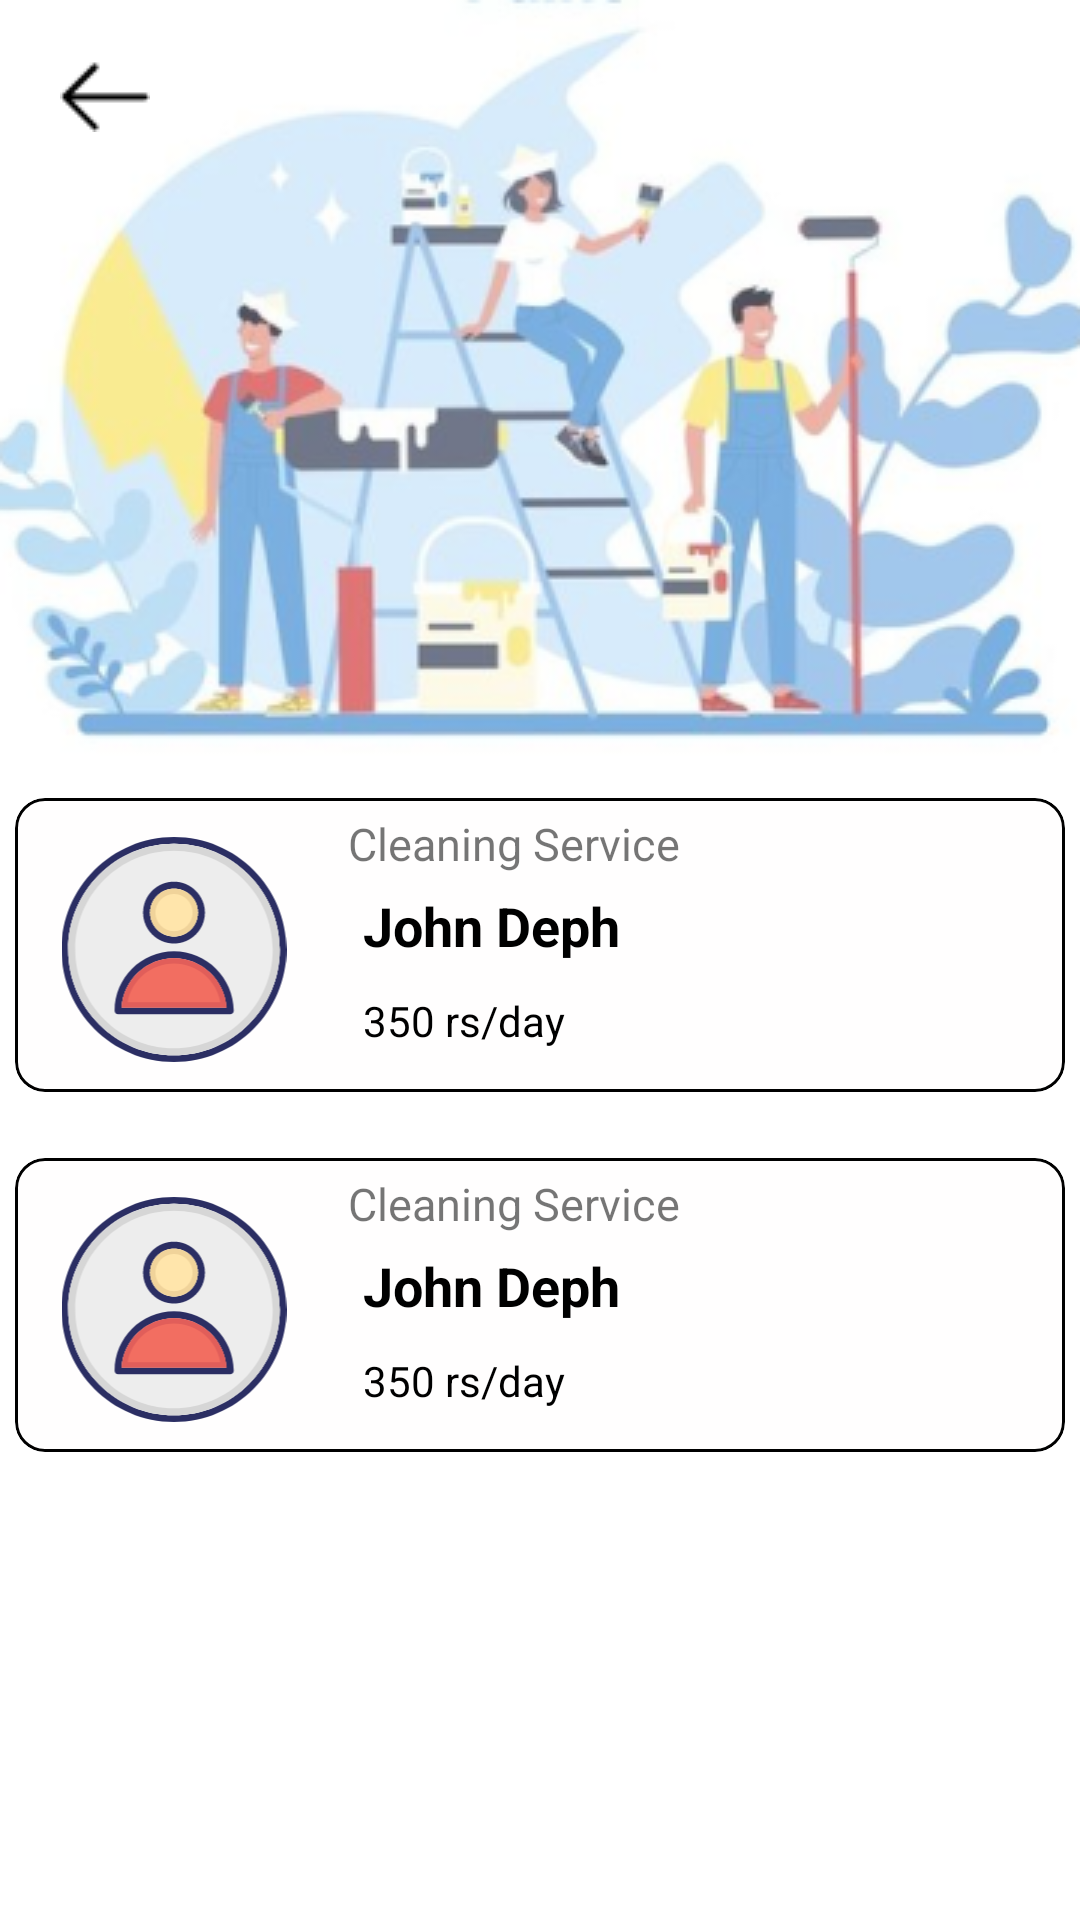

Screen size 1080w x 1920h. Icon name, then its box in pixels as (x1, y1, x2, y2):
arrow: (60, 62, 150, 132)
profile: (62, 837, 287, 1062), (62, 1197, 287, 1422)
